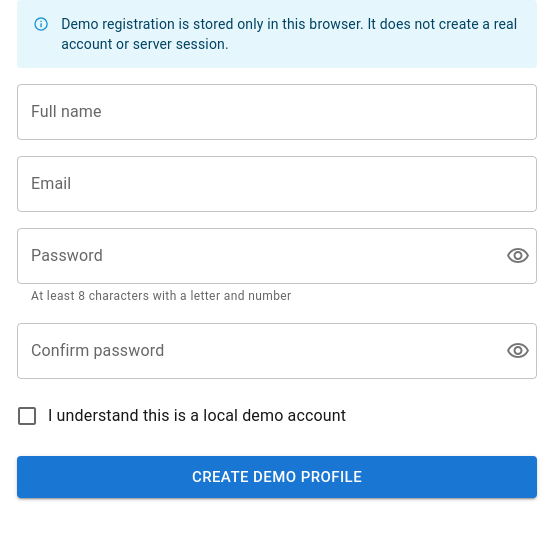
Test: RegistrationForm › shows a password mismatch next to the confirmation field
The image size is (555, 541).
Type "password1" into the password field labelled "Password".
click(253, 256); type("password1")  # box [17,228,490,284]
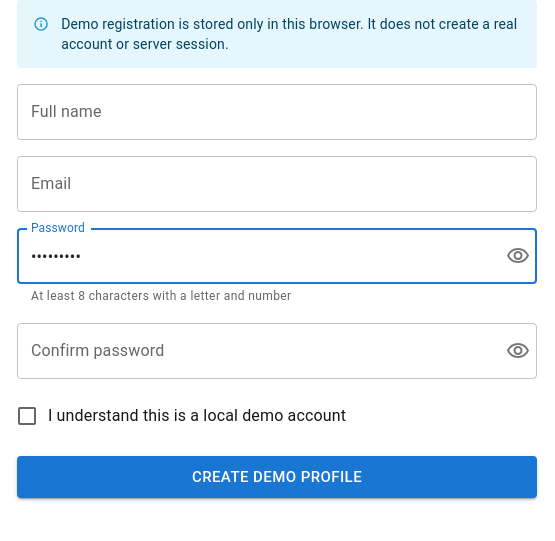
Type "password2" into the password field labelled "Confirm password".
click(253, 351); type("password2")  # box [17,323,490,379]
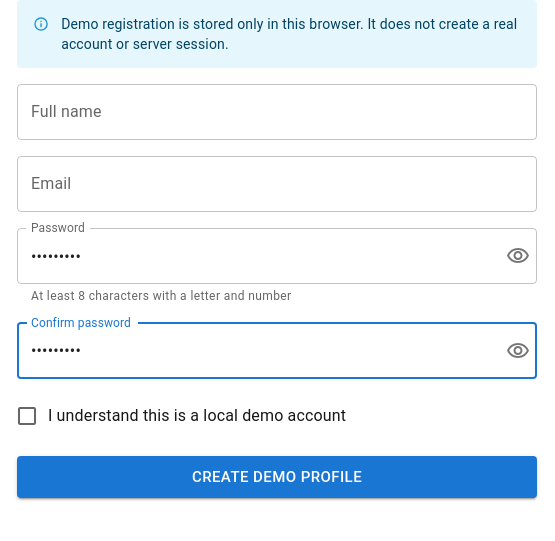
Press Tab
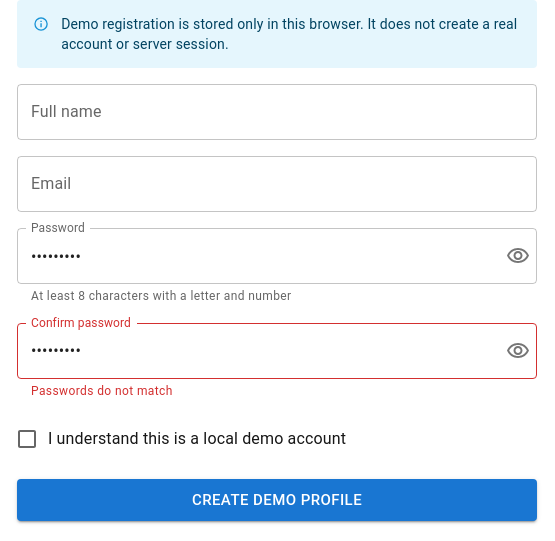
Expected: the text "Passwords do not match" is shown, [31,384,173,398]
